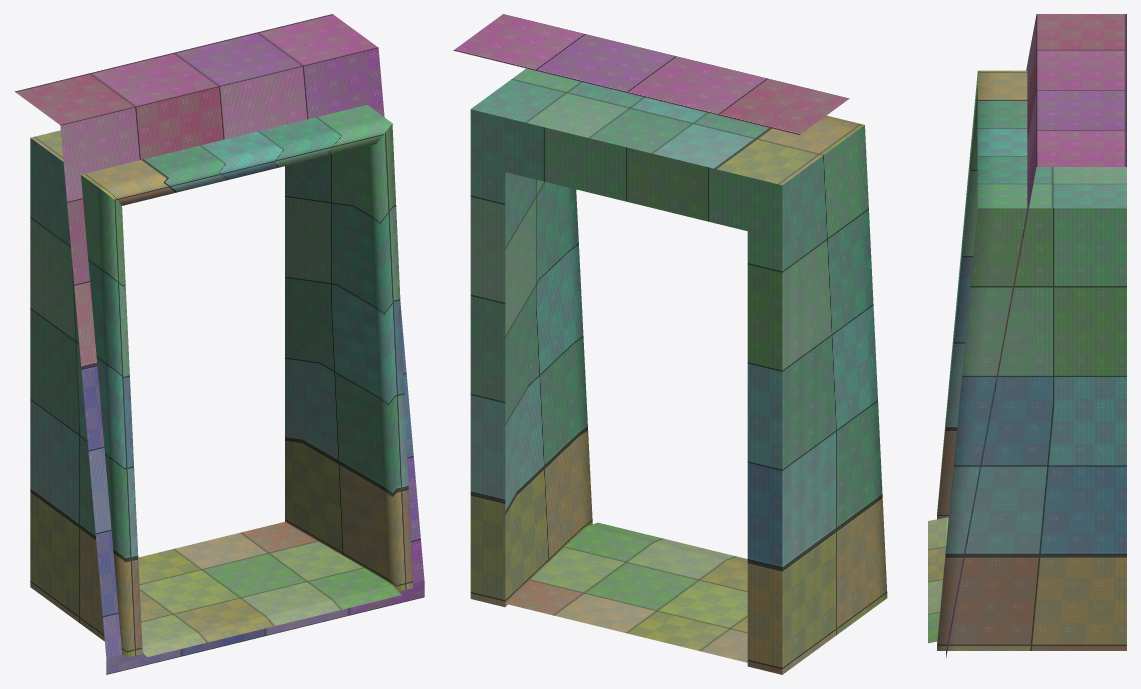
The model's file is tile_wall_doorway.glb.
3 views of the same model, side by side, from view 1: azimuth 30°, elevation 25°; view 2: azimuth 150°, elevation 25°; view 3: azimuth 270°, elevation 25° (orthographic). The views are drawn at different scales.
Parts seen in each view (by area): view 1: tile_wall_doorway; view 2: tile_wall_doorway; view 3: tile_wall_doorway.
Part boxes in pixels (x1,y1,x2,y2): tile_wall_doorway: [15, 14, 424, 674]; tile_wall_doorway: [453, 14, 887, 674]; tile_wall_doorway: [928, 14, 1126, 657].
Bounding box in the file's own units: 2 × 3.1 × 1.1.
1 material, 1 textured.
